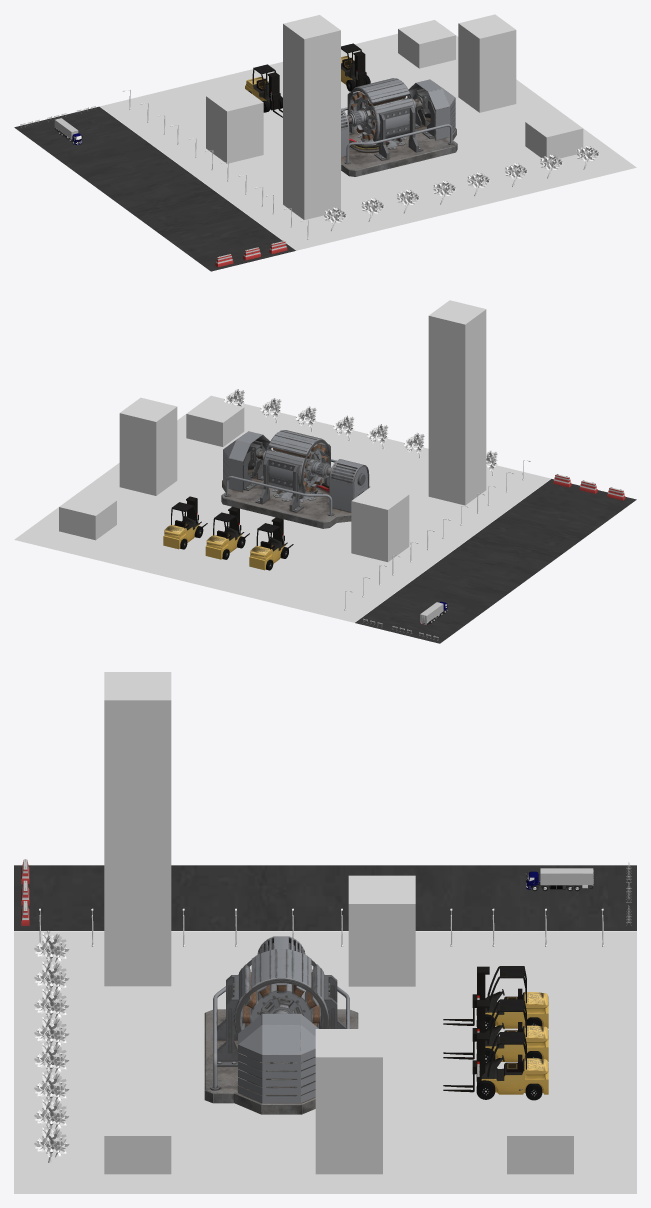
Rendered from factory-area.glb.
3 views of the same model, one above another, from view 1: azimuth 30°, elevation 25°; view 2: azimuth 150°, elevation 25°; view 3: azimuth 270°, elevation 25° (orthographic). The views are drawn at different scales.
Parts seen in each view (by area): view 1: floor#1, road#1, building#2, building#3, machine, building#1, machine-part#2, building#5, building#4, machine-part#1, forklift#9, forklift#17 (+1 smaller); view 2: floor#1, road#1, building#2, machine, building#3, machine-part#2, building#1, building#4, building#5, forklift#9, forklift#8, forklift#17 (+1 smaller); view 3: floor#1, road#1, building#2, machine, building#3, building#1, machine-part#2, building#4, building#5, forklift#17, forklift#9, forklift#8 (+9 smaller).
Boxes of the visible parts, x1,y1,x2,y2 form: floor#1: (100, 29, 636, 250); road#1: (14, 106, 295, 271); building#2: (283, 15, 340, 219); building#3: (458, 14, 516, 112); machine: (341, 79, 457, 176); building#1: (206, 87, 263, 163); machine-part#2: (341, 78, 435, 160); building#5: (398, 20, 455, 68); building#4: (525, 113, 583, 158); machine-part#1: (346, 91, 422, 140); forklift#9: (245, 64, 282, 117); forklift#17: (341, 43, 370, 91); floor#1: (14, 395, 550, 622); road#1: (355, 479, 636, 643); building#2: (428, 300, 486, 505); machine: (221, 431, 370, 528); building#3: (119, 397, 177, 495); machine-part#2: (243, 430, 365, 512); building#1: (351, 485, 409, 561); building#4: (186, 398, 244, 446); building#5: (59, 491, 116, 540); forklift#9: (249, 517, 293, 570); forklift#8: (205, 506, 249, 559); forklift#17: (163, 496, 207, 549); floor#1: (14, 931, 636, 1193); road#1: (14, 865, 636, 930); building#2: (104, 672, 171, 986); machine: (204, 936, 358, 1114); building#3: (315, 1029, 382, 1174); building#1: (348, 875, 415, 986); machine-part#2: (217, 942, 345, 1091); building#4: (104, 1107, 171, 1174); building#5: (507, 1107, 573, 1174); forklift#17: (443, 1032, 548, 1100); forklift#9: (443, 966, 548, 1031); forklift#8: (443, 999, 548, 1064).
Size of the model in its own units: 153 by 62.3 by 122.
45 materials, 6 textured.
